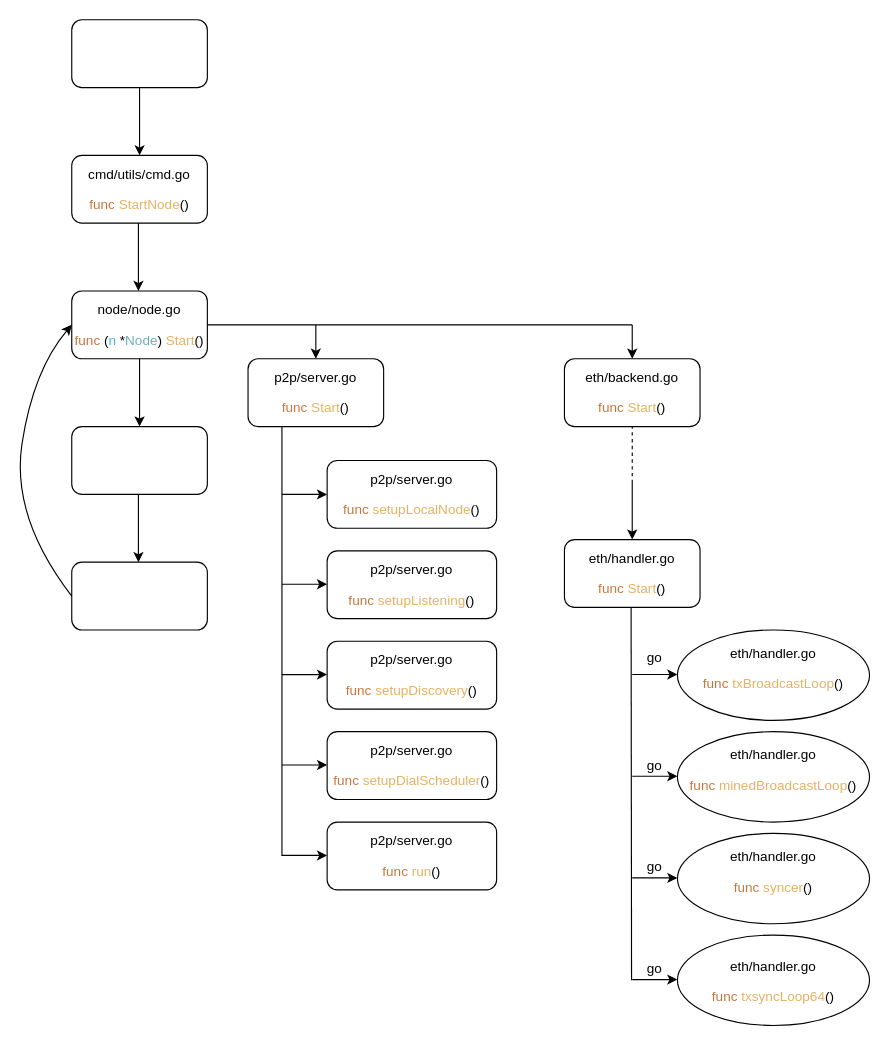
This 889x1045 diagram has some shape labels left out. Here are the shapes that lost their labels. From the top down, the box of each, then its label:
(71, 19, 207, 88): cmd/geth/main.go func startNode ()
(71, 425, 207, 494): eth/backend.go func ( s * Ethereum ) Protocols ()
(71, 561, 207, 630): eth/backend.go func makeProtocol ()
